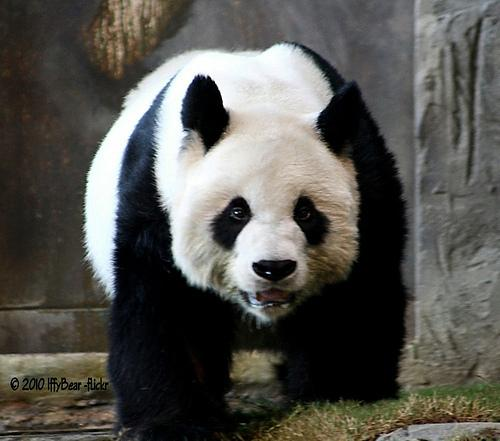panda: (85, 43, 405, 440)
